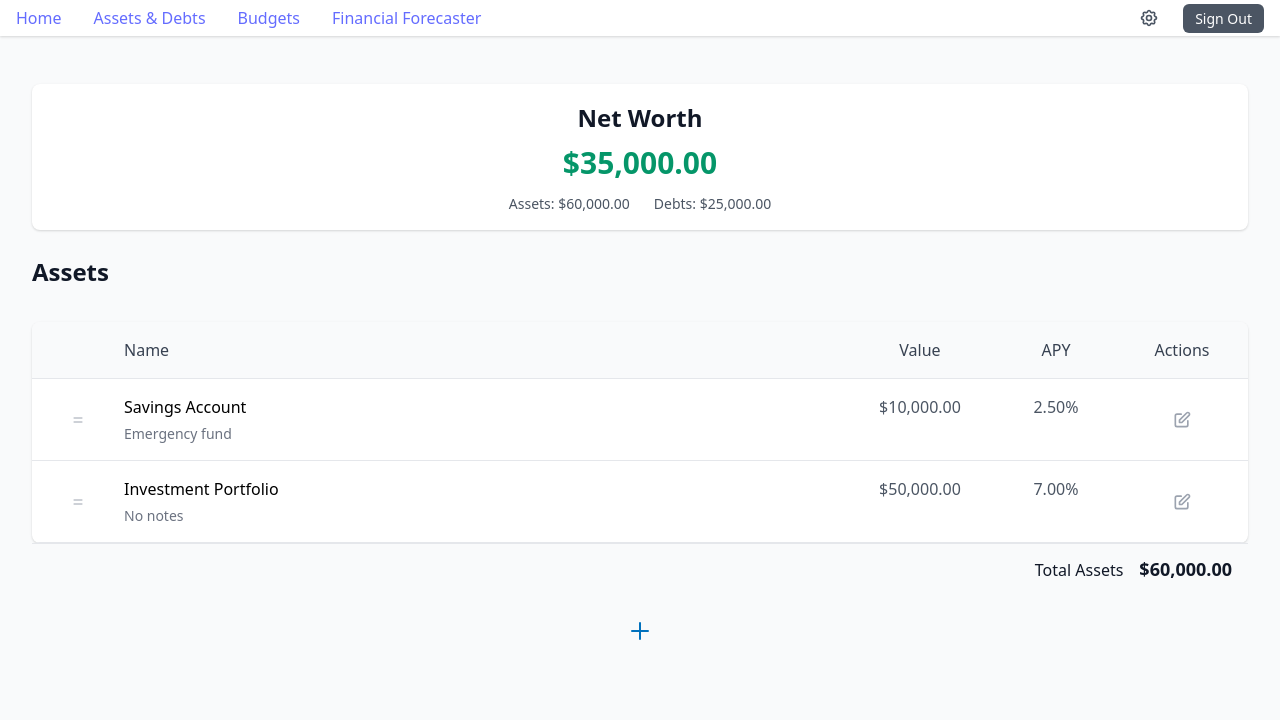
Assets Component › Asset CRUD Operations › opens edit modal when clicking edit button on asset
This screenshot has width=1280, height=720.
What coordinates should you click on to do the following:
click the button with test id "edit-asset-asset1"
I would click on:
 (1182, 420)
Its box is [1164, 395, 1200, 444].
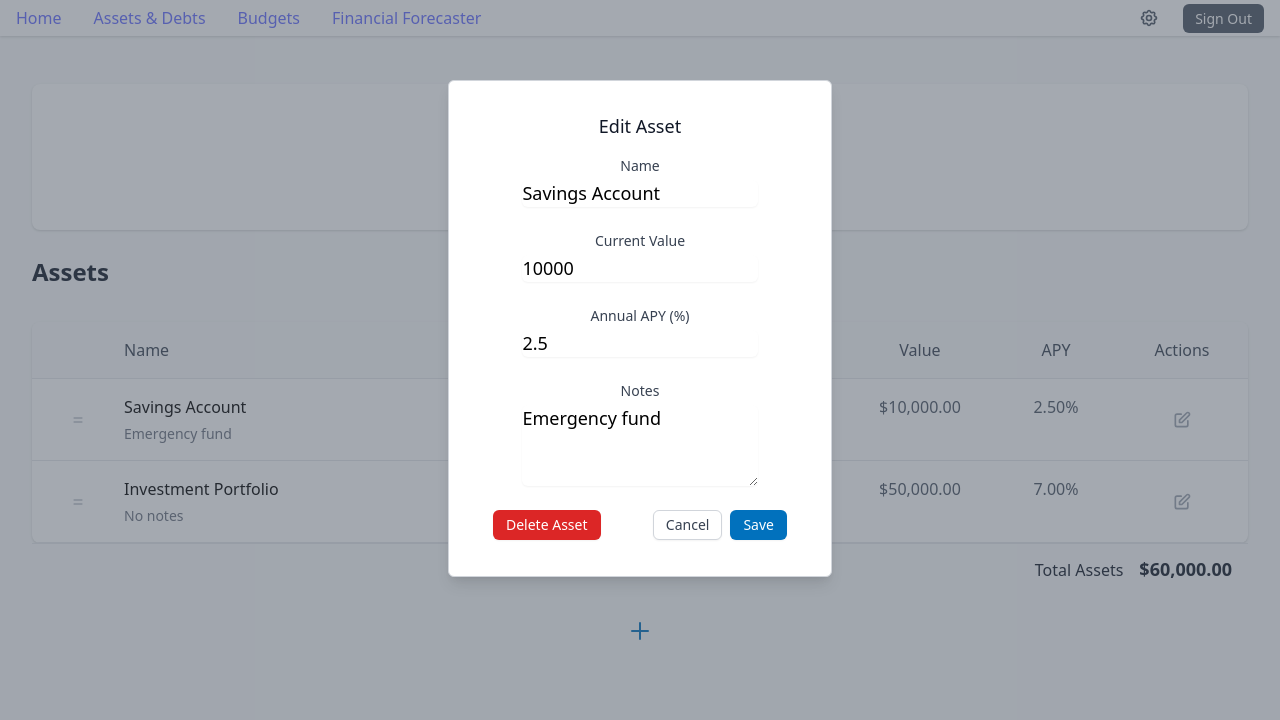
Now the heading "Edit Asset" is shown, box [599, 114, 681, 138]
Now the field showing "Savings Account" is shown, box [522, 180, 758, 207]
